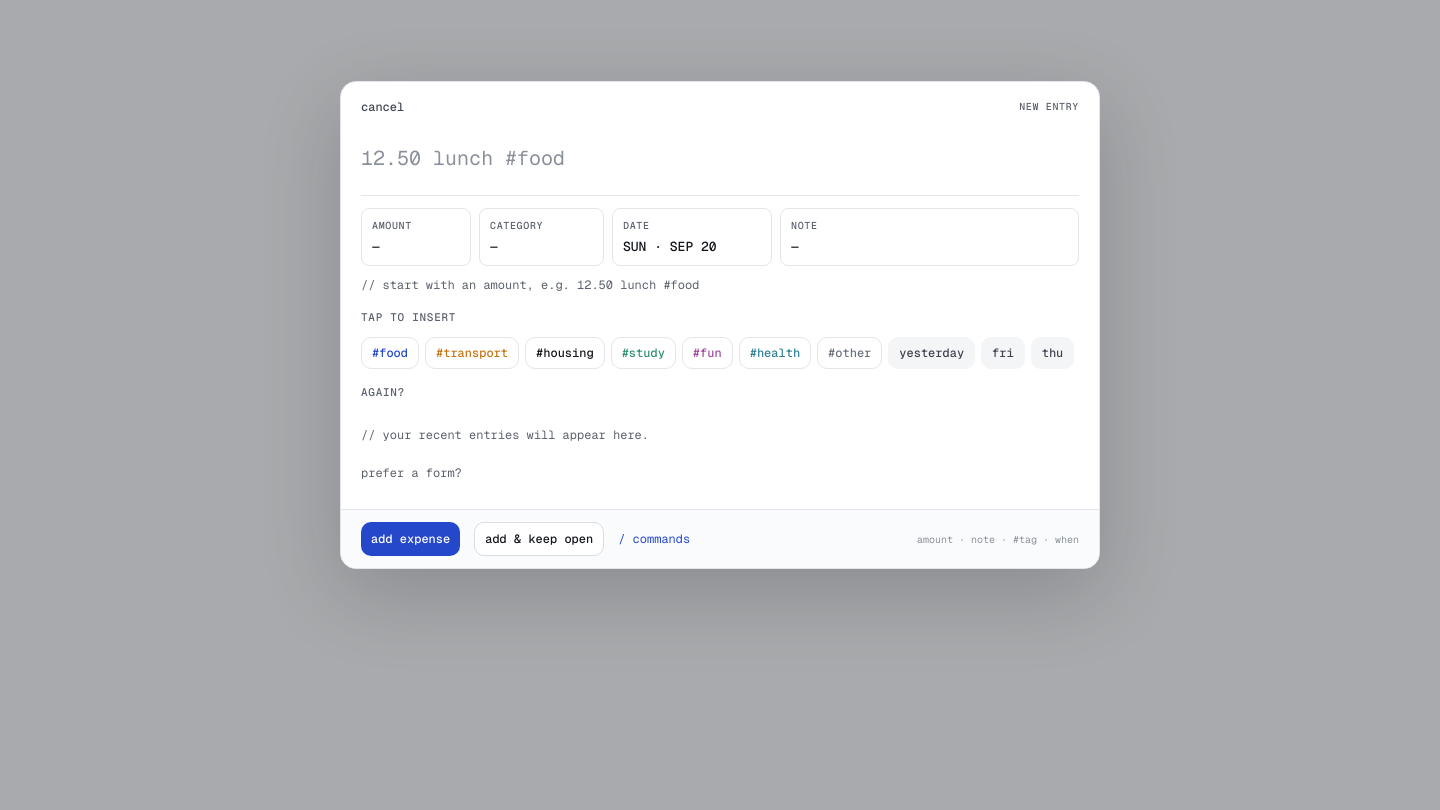
opens command suggestions and selects a complete recurring command
Click the button "/ commands" at coordinates (654, 539), box [618, 523, 690, 555]
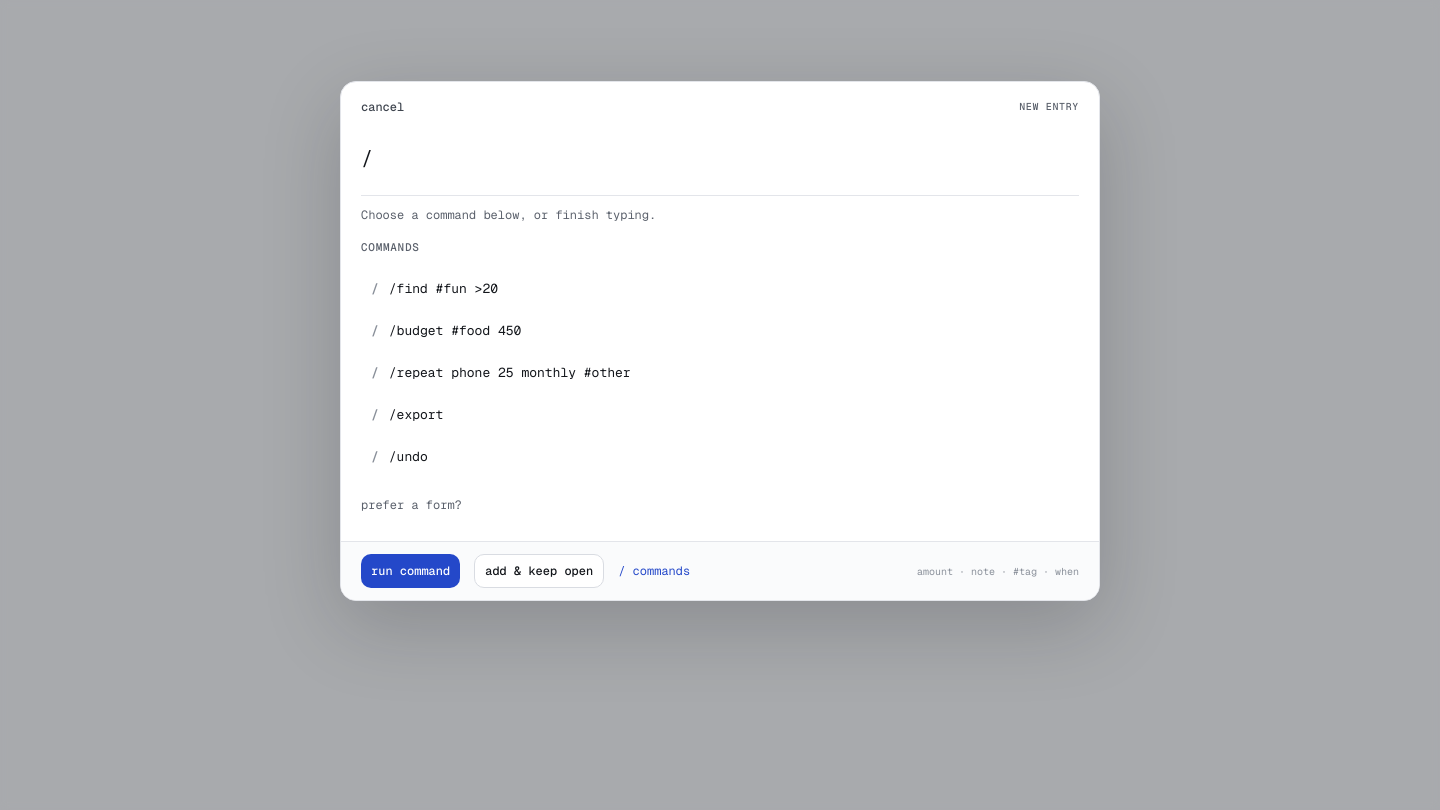
Expected: the text box named "TYPE IT LIKE A NOTE" holds "/", [361, 132, 1079, 196]
Expected: the heading "COMMANDS" is shown, [361, 240, 420, 254]
Expected: the text "Choose a command below, or finish typing." is shown, [361, 207, 656, 223]
Click the button "/ /repeat phone 25 monthly #other" at coordinates (510, 372), box [361, 351, 1079, 393]
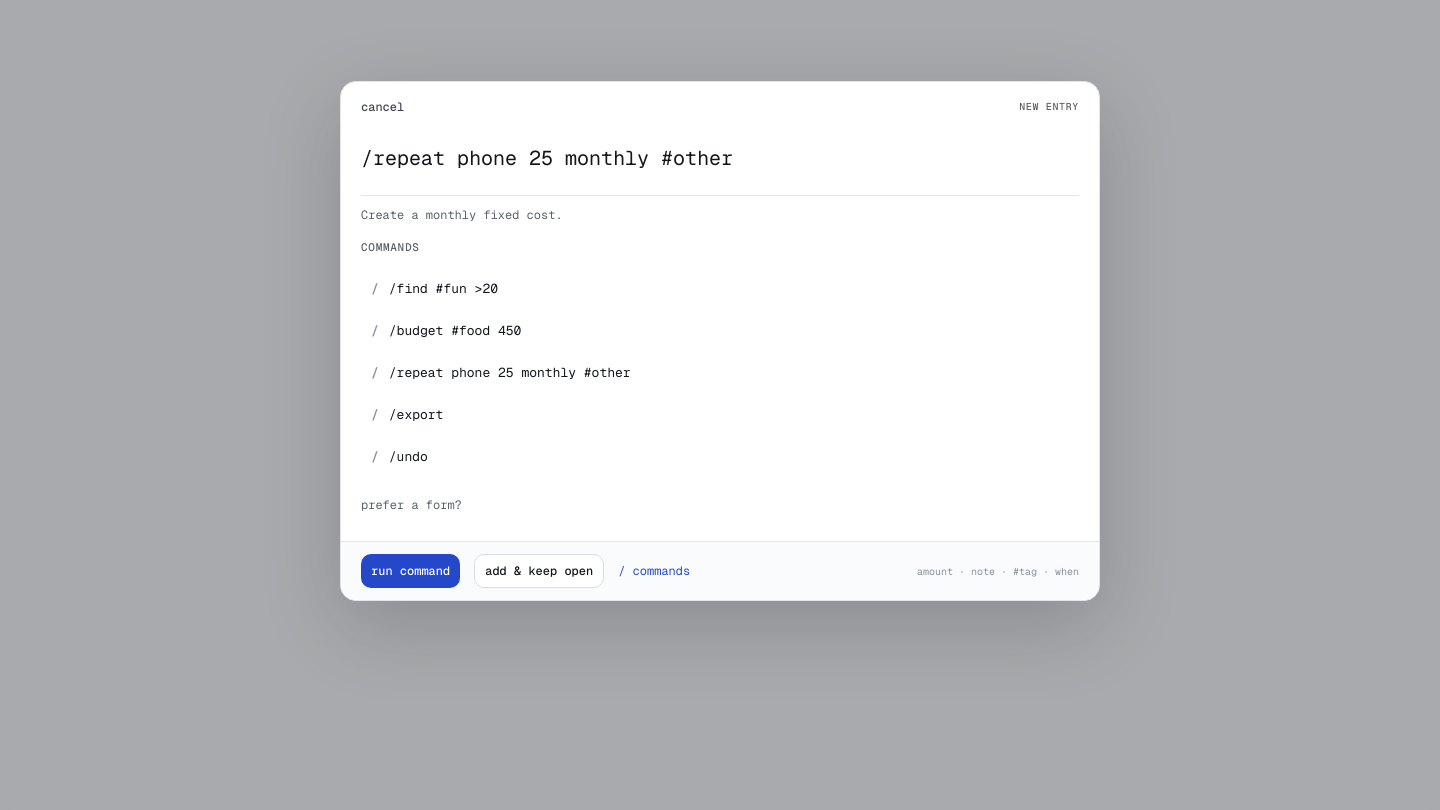
Expected: the text box named "TYPE IT LIKE A NOTE" holds "/repeat phone 25 monthly #other", [361, 132, 1079, 196]
Expected: the text "Create a monthly fixed cost." is shown, [361, 207, 563, 223]
